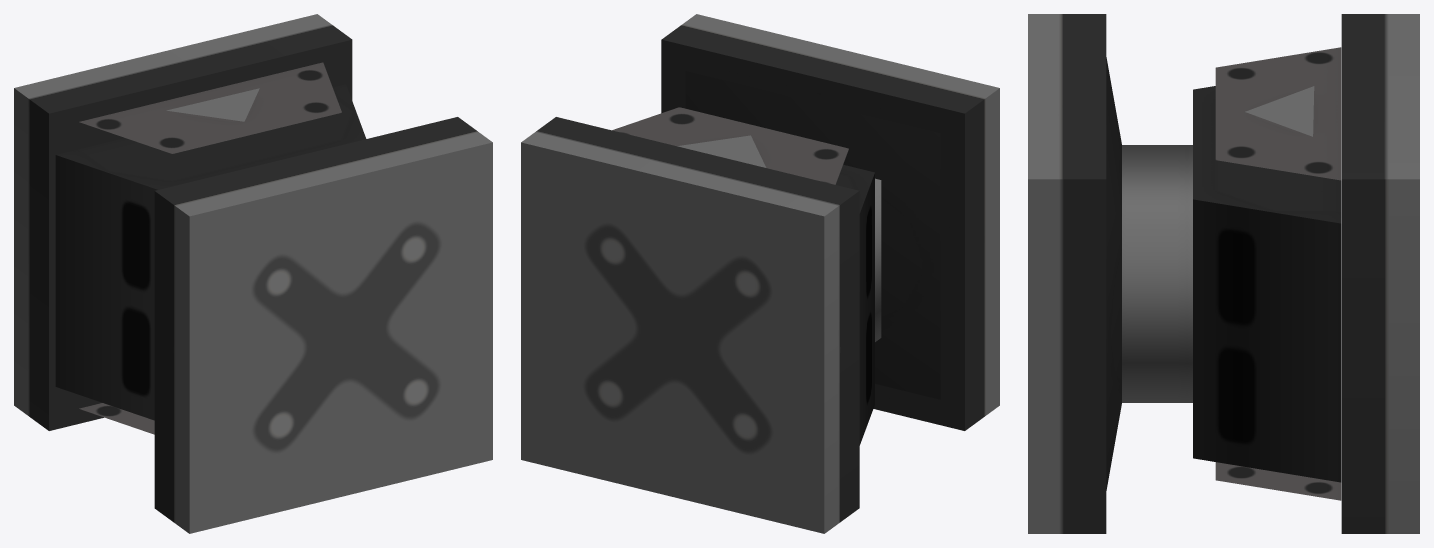
Rendered from obj_interactive_piston_02_off_lod1.fbx.
3 views of the same model, side by side, from view 1: azimuth 30°, elevation 25°; view 2: azimuth 150°, elevation 25°; view 3: azimuth 270°, elevation 25° (orthographic). The views are drawn at different scales.
Visible parts, largest first — view 1: obj_interactive_piston_02_off_lod1; view 2: obj_interactive_piston_02_off_lod1; view 3: obj_interactive_piston_02_off_lod1.
Part boxes in pixels (box(x1,y1,x2,y2)): obj_interactive_piston_02_off_lod1: box(14, 14, 492, 533); obj_interactive_piston_02_off_lod1: box(521, 14, 999, 533); obj_interactive_piston_02_off_lod1: box(1028, 14, 1419, 533).
Size of the model in its own units: 1 by 1 by 1.
